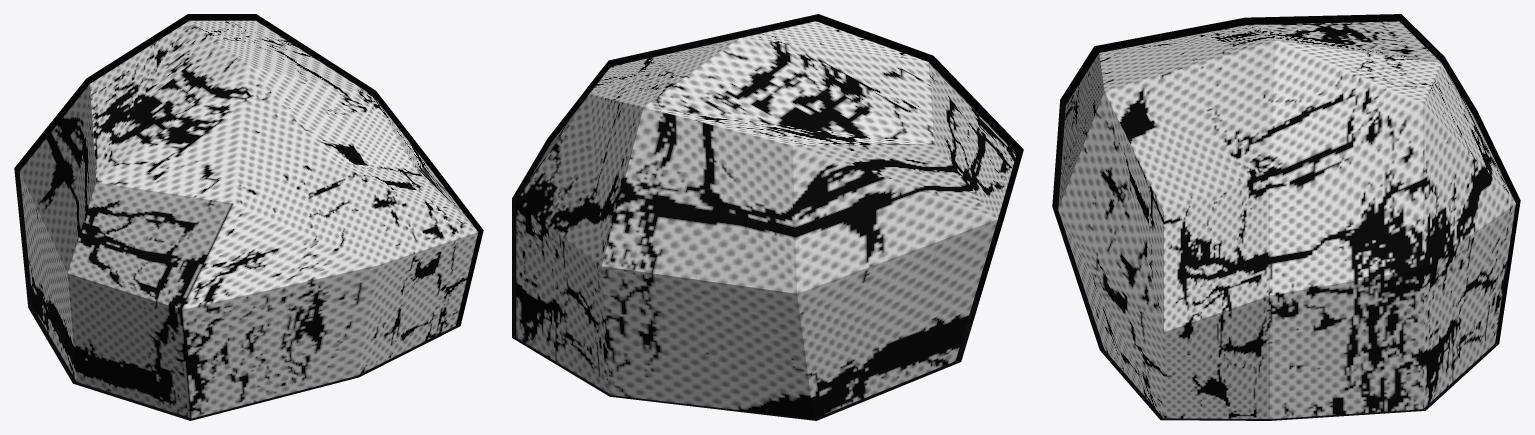
Rendered from Rock.glb.
3 renders of one model, left to right at view 1: azimuth 30°, elevation 25°; view 2: azimuth 150°, elevation 25°; view 3: azimuth 270°, elevation 25°, orthographic. The views are drawn at different scales.
Parts seen in each view (by area): view 1: Rock; view 2: Rock; view 3: Rock.
Boxes of the visible parts, <box> form: Rock: <box>14,14,483,420</box>; Rock: <box>512,14,1023,420</box>; Rock: <box>1052,14,1520,420</box>.
Size of the model in its own units: 4.03 by 2.59 by 3.68.
2 materials, 1 textured.
